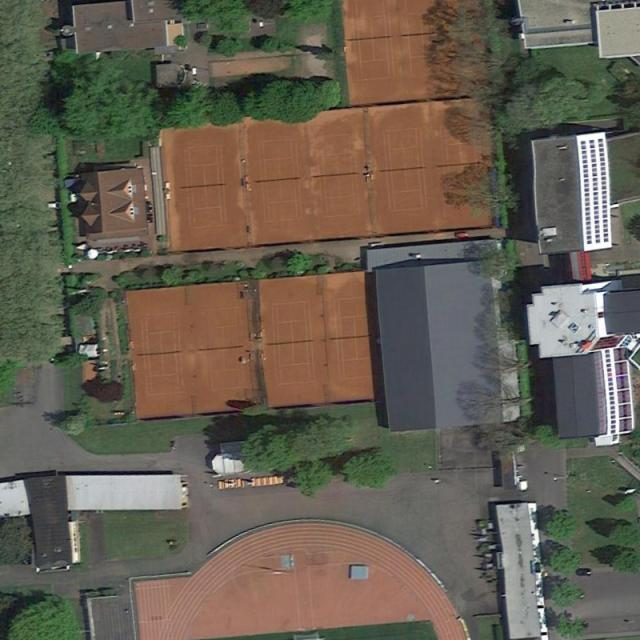vehicle: (452, 230, 470, 240), (574, 568, 593, 576), (638, 518, 640, 523)
